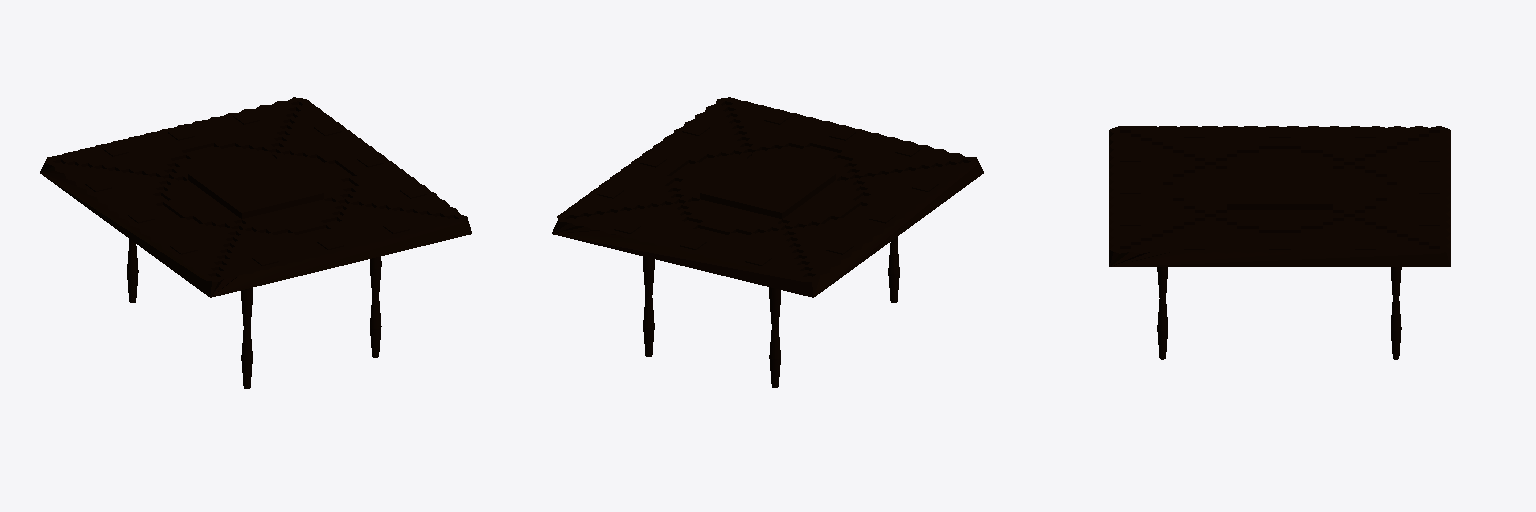
Rendered from table2.obj.
The picture shows the model from 3 angles: view 1: azimuth 30°, elevation 25°; view 2: azimuth 150°, elevation 25°; view 3: azimuth 270°, elevation 25°; orthographic projection.
Parts seen in each view (by area): view 1: Cylinder; view 2: Cylinder; view 3: Cylinder.
Part boxes in pixels (bbox=[...]): Cylinder: bbox=[40, 97, 471, 388]; Cylinder: bbox=[552, 97, 983, 387]; Cylinder: bbox=[1109, 126, 1450, 359].
Size of the model in its own units: 4.44 by 2.34 by 5.01.